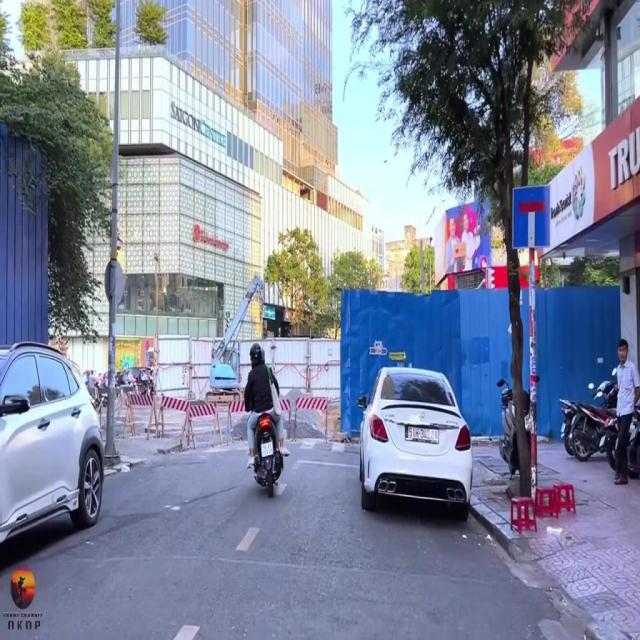khac: (513, 188, 551, 248)
